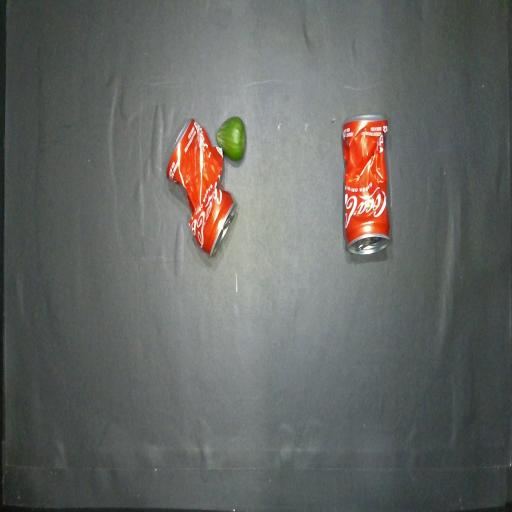higo: (216, 117, 246, 161)
lata_defectuoso: (167, 119, 236, 256), (342, 115, 389, 254)
